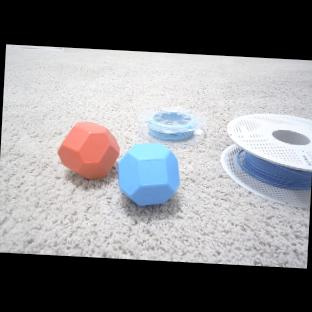V5_BLUE: (117, 140, 183, 208)
V5_RED: (55, 119, 122, 181)
